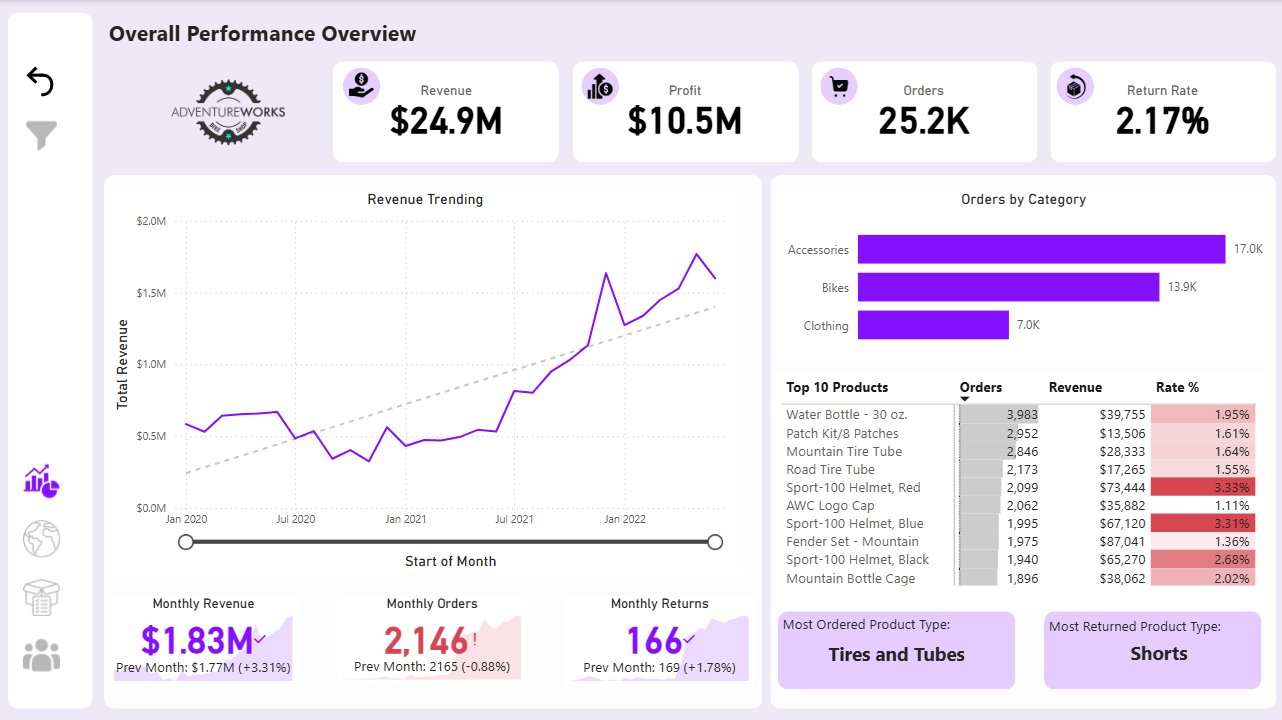

Layout of this report page (visuals, bound fields, positions):
{"tool":"powerbi","page":{"name":"Exec Dashboard","canvas":[1280,720],"ordinal":0},"visuals":[{"type":"group","id":"g1","title":"KPI shapes","box":[331.8,60.8,939.8,100.8],"z":0,"group":"g3"},{"type":"shape","box":[331.8,60.8,225.2,100.8],"z":0,"group":"g1"},{"type":"cardVisual","fields":{"Data":["Measure table.Total Revenue"]},"box":[342.3,60.8,206.3,101],"z":0,"group":"g2"},{"type":"shape","box":[767.5,174.2,503.8,531.2],"z":0},{"type":"actionButton","box":[20.6,455.9,44.7,44.7],"z":0,"group":"g4"},{"type":"group","id":"g2","title":"KPI Values","box":[342.3,60.8,919,101],"z":1000,"group":"g3"},{"type":"shape","box":[570,60.8,225.2,100.8],"z":1000,"group":"g1"},{"type":"cardVisual","fields":{"Data":["Measure table.Total Profit"]},"box":[579.9,60.8,206.3,101],"z":1000,"group":"g2"},{"type":"shape","box":[104.5,174.2,655.6,531.2],"z":1000},{"type":"actionButton","box":[20.5,513.4,45,45],"z":1000,"group":"g4"},{"type":"shape","box":[808.2,60.8,225.2,100.8],"z":2000,"group":"g1"},{"type":"cardVisual","fields":{"Data":["Measure table.Total Orders"]},"box":[817.4,60.8,206.3,101],"z":2000,"group":"g2"},{"type":"actionButton","box":[20.5,571.2,45,45],"z":2000,"group":"g4"},{"type":"shape","box":[1040.2,608.8,216.4,77.9],"z":2000},{"type":"shape","box":[1046.5,60.8,225.2,100.8],"z":3000,"group":"g1"},{"type":"cardVisual","fields":{"Data":["Measure table.Return Rate"]},"box":[1055,60.8,206.3,101],"z":3000,"group":"g2"},{"type":"lineChart","title":"Revenue Trending","fields":{"Category":["Calendar Lookup.Date Hierarchy.Start of Month"],"Y":["Measure table.Total Revenue"]},"box":[109.5,189.1,629.4,381.9],"z":3000},{"type":"actionButton","box":[20.5,629,45,45],"z":3000,"group":"g4"},{"type":"shape","title":"Nav Shape","box":[8.7,12.4,84.6,692.9],"z":4000},{"type":"group","id":"g3","title":"KPIs","box":[331.8,60.8,939.2,101],"z":5000},{"type":"kpi","title":"Monthly Revenue","fields":{"Indicator":["Measure table.Total Revenue"],"TrendLine":["Calendar Lookup.Date Hierarchy.Start of Month"],"Goal":["Measure table.Previous Month Revenue"]},"box":[109.5,593.4,187.8,89.6],"z":6000},{"type":"kpi","title":"Monthly Orders","fields":{"TrendLine":["Calendar Lookup.Date Hierarchy.Start of Month"],"Indicator":["Measure table.Total Orders"],"Goal":["Measure table.Previous Month Orders"]},"box":[337.1,593.4,187.8,88.3],"z":7000},{"type":"kpi","title":"Monthly Returns","fields":{"TrendLine":["Calendar Lookup.Date Hierarchy.Start of Month"],"Indicator":["Measure table.Total Returns"],"Goal":["Measure table.Previous Month Returns"]},"box":[563.5,593.4,187.8,89.6],"z":8000},{"type":"clusteredBarChart","title":"Orders by Category","fields":{"Category":["Product Categories Lookup.CategoryName"],"Y":["Measure table.Total Orders"]},"box":[775,189.1,490.1,170.4],"z":9000},{"type":"pivotTable","fields":{"Rows":["Product Lookup.ProductName"],"Values":["Measure table.Total Orders","Measure table.Total Revenue","Measure table.Return Rate"]},"box":[773.7,370.7,490.1,232.6],"z":10000},{"type":"shape","box":[774.8,608.8,236.6,77.9],"z":11000},{"type":"cardVisual","fields":{"Data":["Min(Product Subcategories Lookup.SubcategoryName)"]},"box":[790.6,618.9,204.9,59.2],"z":12000},{"type":"textbox","box":[774.8,607.4,199.1,36.1],"z":13000},{"type":"cardVisual","fields":{"Data":["Min(Product Subcategories Lookup.SubcategoryName)"]},"box":[1051.9,619.4,204.7,58.7],"z":14000},{"type":"textbox","box":[1039.4,608.7,199.3,35.6],"z":15000},{"type":"actionButton","box":[21.1,61,46,39.8],"z":16000},{"type":"group","id":"g4","title":"Nav Buttons","box":[20.5,455.9,45,218.1],"z":17000},{"type":"actionButton","box":[19.9,112,44.8,44.8],"z":18000},{"type":"image","box":[159.2,73.4,138.1,77.1],"z":20000},{"type":"shape","box":[342.1,67.2,37.3,37.3],"z":21000},{"type":"shape","box":[579.7,67.2,37.3,37.3],"z":22000},{"type":"shape","box":[817.3,67.2,37.3,37.3],"z":23000},{"type":"shape","box":[1052.4,67.2,37.3,37.3],"z":24000},{"type":"image","box":[348.3,72.1,24.9,24.9],"z":25000},{"type":"image","box":[585.9,73.4,24.9,24.9],"z":26000},{"type":"image","box":[823.5,73.4,24.9,24.9],"z":27000},{"type":"image","box":[1058.6,73.4,24.9,24.9],"z":28000},{"type":"textbox","box":[104.5,12.4,655.6,41.1],"z":29000}]}

Visuals, with their boxes on the page's 1280x720 design canvas (x1, y1, x2, y2). These are canvas units, not pixel positions in the 1282x720 screenshot, which may show the page scaled, cropped or inside an application window:
"KPI shapes" group: [332, 61, 1272, 162]
shape: [332, 61, 557, 162]
cardVisual - Measure table.Total Revenue: [342, 61, 549, 162]
shape: [768, 174, 1271, 705]
actionButton: [21, 456, 65, 501]
"KPI Values" group: [342, 61, 1261, 162]
shape: [570, 61, 795, 162]
cardVisual - Measure table.Total Profit: [580, 61, 786, 162]
shape: [104, 174, 760, 705]
actionButton: [20, 513, 66, 558]
shape: [808, 61, 1033, 162]
cardVisual - Measure table.Total Orders: [817, 61, 1024, 162]
actionButton: [20, 571, 66, 616]
shape: [1040, 609, 1257, 687]
shape: [1046, 61, 1272, 162]
cardVisual - Measure table.Return Rate: [1055, 61, 1261, 162]
"Revenue Trending" lineChart: [110, 189, 739, 571]
actionButton: [20, 629, 66, 674]
"Nav Shape" shape: [9, 12, 93, 705]
"KPIs" group: [332, 61, 1271, 162]
"Monthly Revenue" kpi: [110, 593, 297, 683]
"Monthly Orders" kpi: [337, 593, 525, 682]
"Monthly Returns" kpi: [564, 593, 751, 683]
"Orders by Category" clusteredBarChart: [775, 189, 1265, 360]
pivotTable - Product Lookup.ProductName x Measure table.Total Orders: [774, 371, 1264, 603]
shape: [775, 609, 1011, 687]
cardVisual - Min(Product Subcategories Lookup.SubcategoryName): [791, 619, 996, 678]
textbox: [775, 607, 974, 644]
cardVisual - Min(Product Subcategories Lookup.SubcategoryName): [1052, 619, 1257, 678]
textbox: [1039, 609, 1239, 644]
actionButton: [21, 61, 67, 101]
"Nav Buttons" group: [20, 456, 66, 674]
actionButton: [20, 112, 65, 157]
image: [159, 73, 297, 150]
shape: [342, 67, 379, 104]
shape: [580, 67, 617, 104]
shape: [817, 67, 855, 104]
shape: [1052, 67, 1090, 104]
image: [348, 72, 373, 97]
image: [586, 73, 611, 98]
image: [824, 73, 848, 98]
image: [1059, 73, 1084, 98]
textbox: [104, 12, 760, 54]
